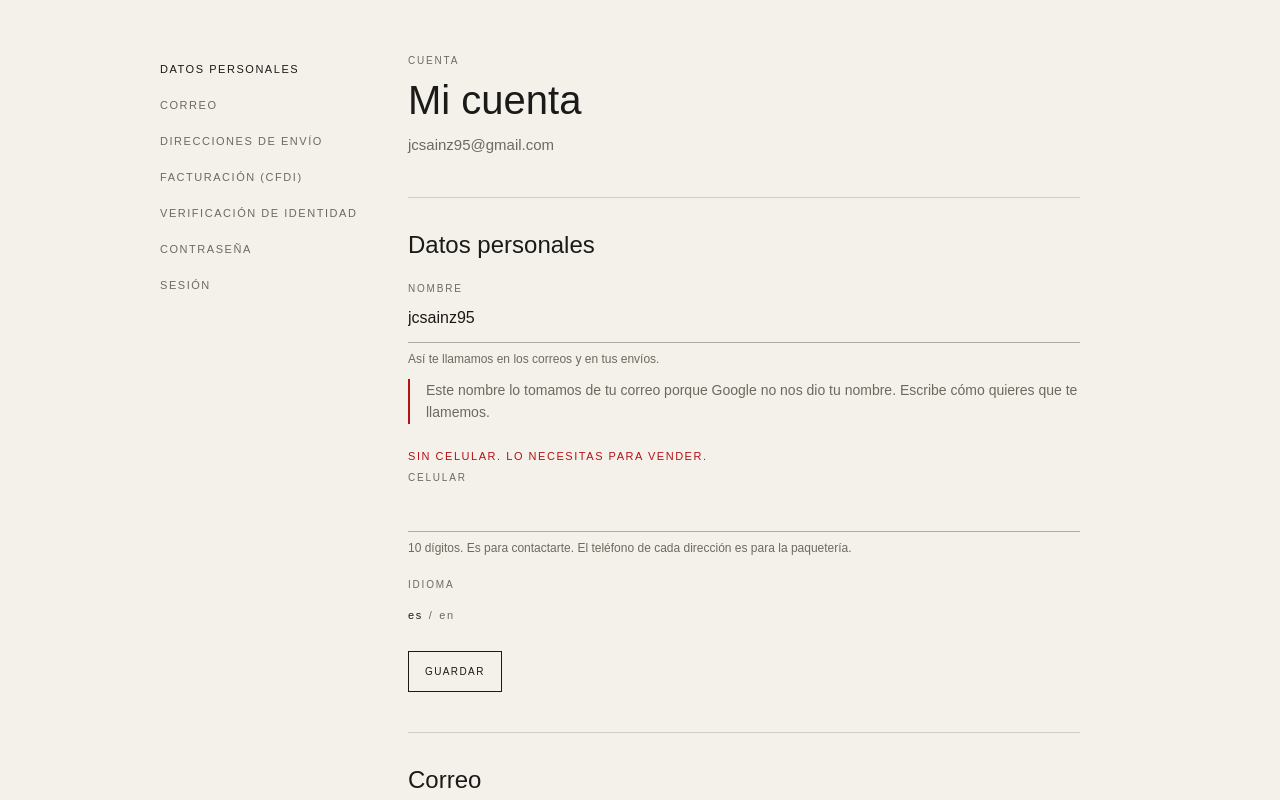
Test: AccountView · un componente, dos puertas (DESIGN_SYSTEM §33.5/§33.6) › CA-9: nameSource=derived ⇒ aviso enlazado por aria-describedby y «Guardar» habilitado sin cambios; tras PATCH ⇒ ausente
This screenshot has width=1280, height=800.
Expected: the text with test id "name-derived-note" is shown, top-left (408, 378), bottom-right (1080, 424)
Expected: the button "Guardar" is enabled, top-left (408, 651), bottom-right (502, 692)
Step 1. Replace the text in the field labelled "Nombre" with "Juan Carlos Sainz" → (744, 318), box top-left (408, 306), bottom-right (1080, 330)
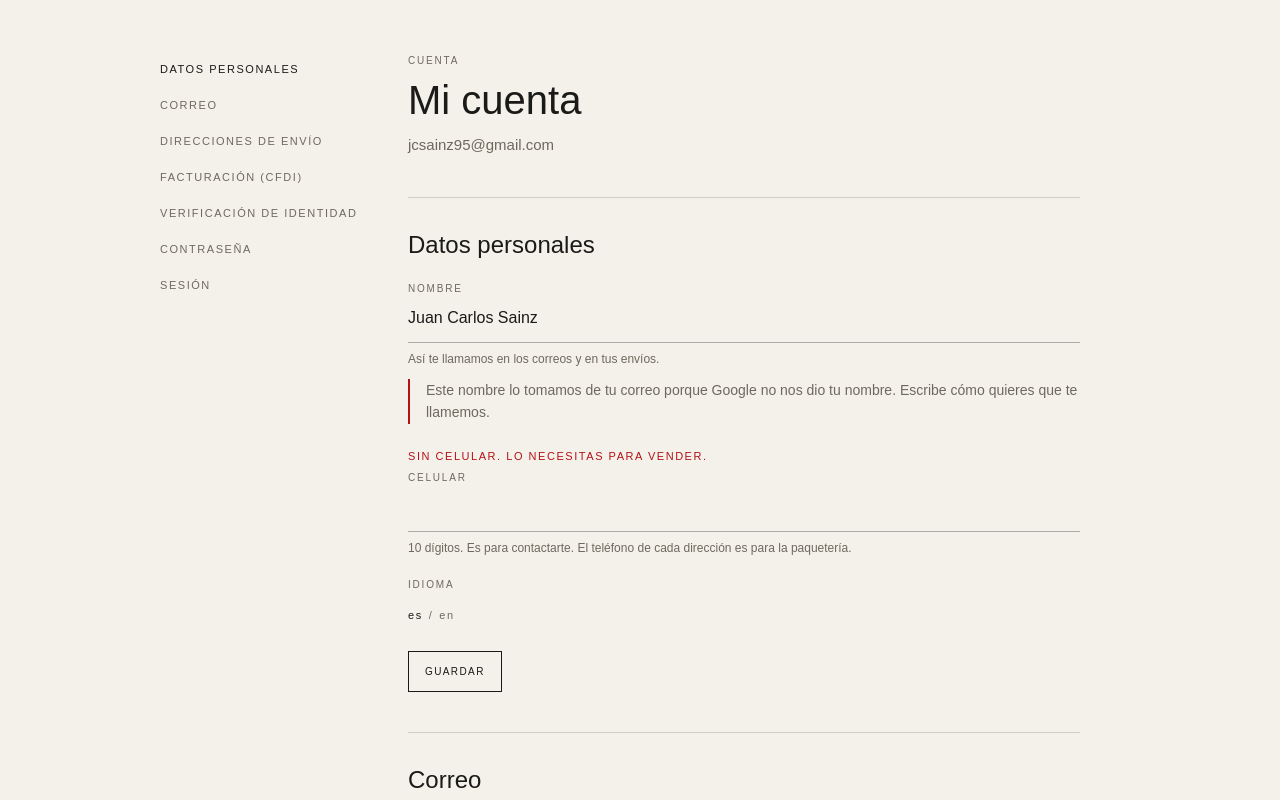
Step 2. Click the button "Guardar" → (455, 672), box top-left (408, 651), bottom-right (502, 692)
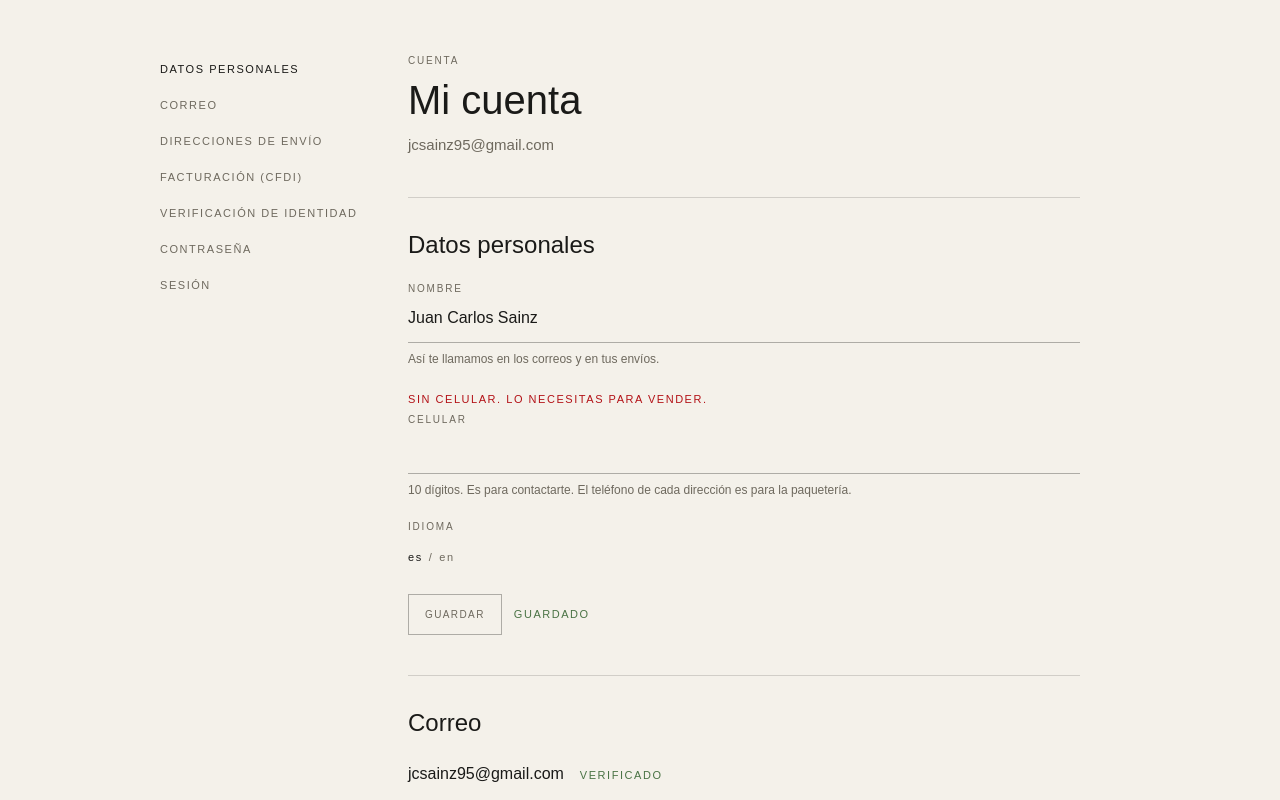
Expected: the text with test id "name-derived-note" is gone
Expected: the message reads "GUARDADO", top-left (514, 608), bottom-right (590, 620)
